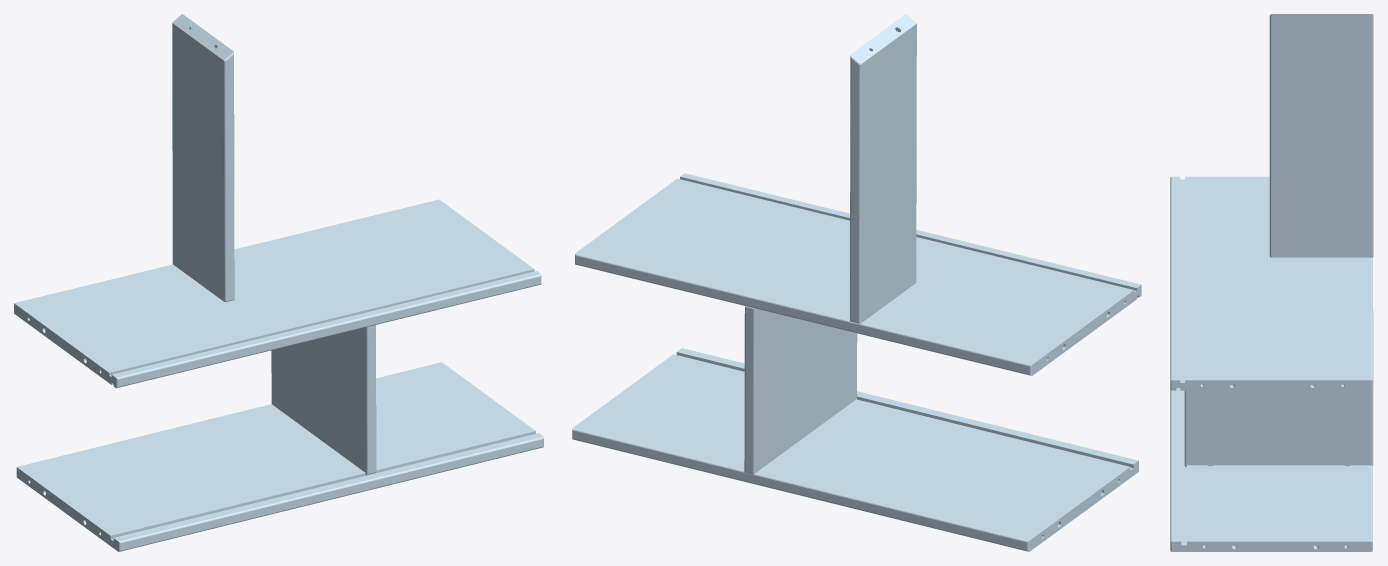
File: step2 .glb
3 views of the same model, side by side, from view 1: azimuth 30°, elevation 25°; view 2: azimuth 150°, elevation 25°; view 3: azimuth 270°, elevation 25° (orthographic). The views are drawn at different scales.
Parts seen in each view (by area): view 1: 4; view 2: 4; view 3: 4.
Part boxes in pixels (<box>): 4: <box>14,14,543,551</box>; 4: <box>572,14,1141,551</box>; 4: <box>1170,14,1373,551</box>.
Size of what is drawn, in the model's own units: 3.1 by 2.92 by 1.3.
